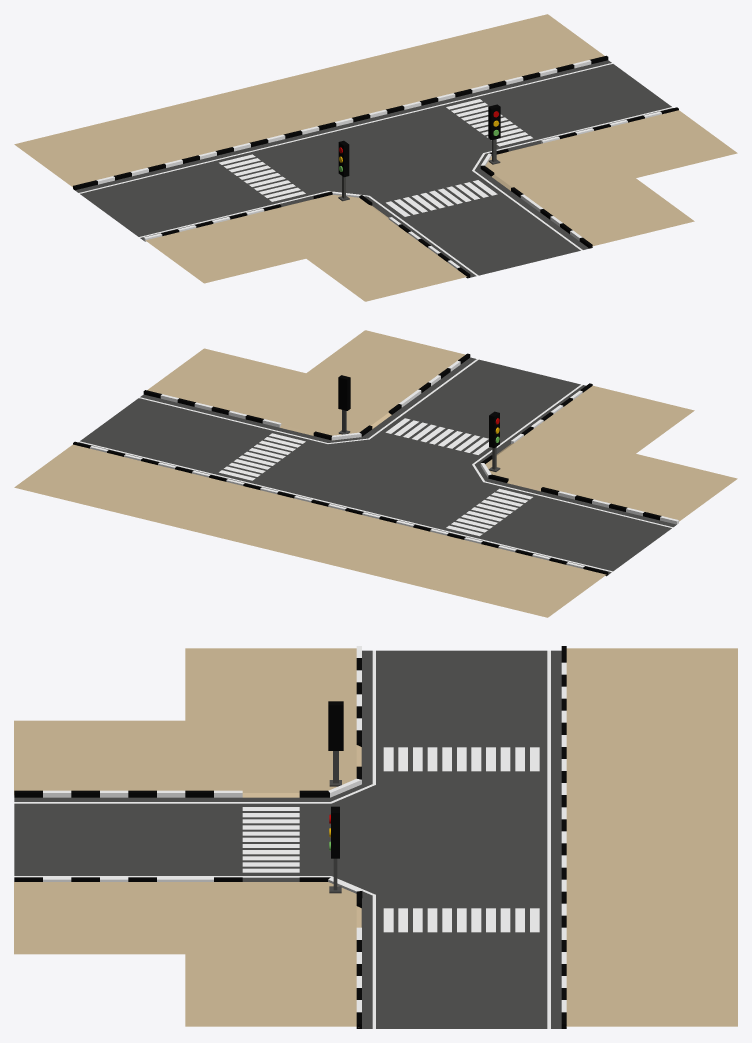
Rendered from road_fork.fbx.
3 renders of one model, top to bottom at view 1: azimuth 30°, elevation 25°; view 2: azimuth 150°, elevation 25°; view 3: azimuth 270°, elevation 25°, orthographic. The views are drawn at different scales.
Parts seen in each view (by area): view 1: road_fork; view 2: road_fork; view 3: road_fork.
Boxes of the visible parts, x1,y1,x2,y2 form: road_fork: [14, 14, 737, 301]; road_fork: [14, 330, 737, 617]; road_fork: [14, 646, 737, 1028].
Bounding box in the file's own units: 2716 × 278 × 2196.
